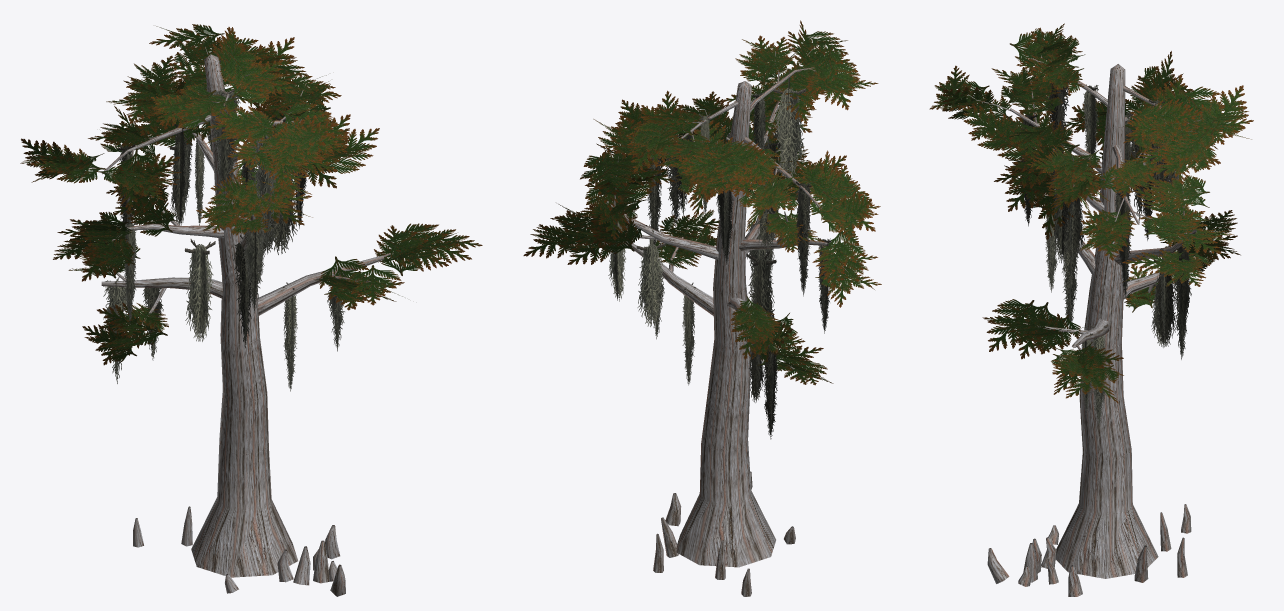
The model's file is nature-black-swamp-cypress_v3.glb.
3 views of the same model, side by side, from view 1: azimuth 30°, elevation 25°; view 2: azimuth 150°, elevation 25°; view 3: azimuth 270°, elevation 25° (orthographic). The views are drawn at different scales.
Visible parts, largest first — view 1: nature-black-swamp-cypress; view 2: nature-black-swamp-cypress; view 3: nature-black-swamp-cypress.
Part boxes in pixels (left/top/right/bottom): nature-black-swamp-cypress: left=20, top=24, right=482, bottom=596; nature-black-swamp-cypress: left=523, top=20, right=881, bottom=596; nature-black-swamp-cypress: left=929, top=23, right=1253, bottom=596.
Size of the model in its own units: 8.65 by 10.54 by 6.57.
Materials: 2 (2 with a texture image).
